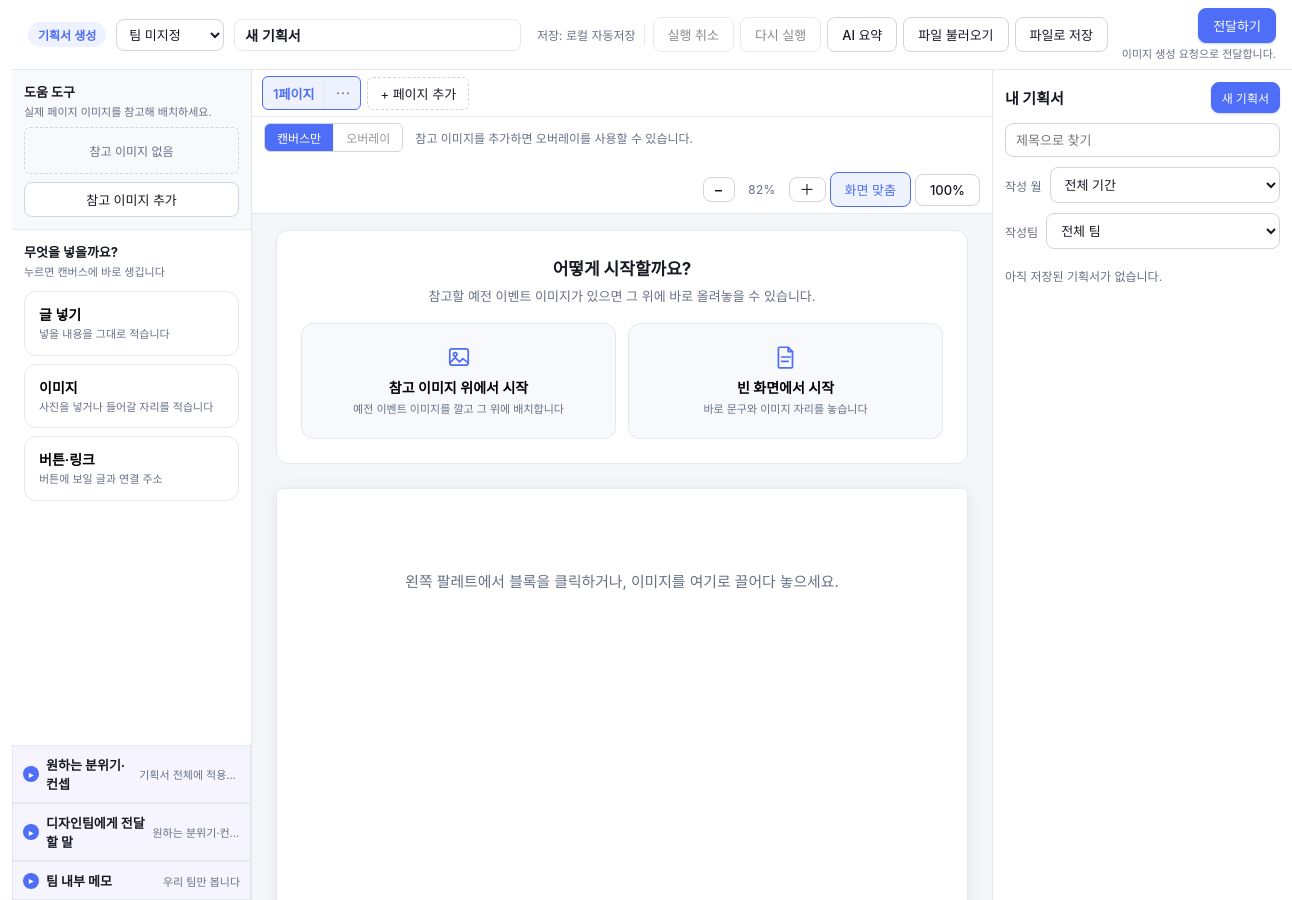
Scenario: editor top bar — Phase 7 Step 3 › asks for a name before delivering — an unnamed brief creates no request and does not navigate
The width and height of the screenshot is (1292, 900).
Expected: the message reads "이미지 생성 요청으로 전달합니다.", [1122, 47, 1276, 61]
Clear the field named "기획서 제목": point(378, 34) [234, 18, 521, 50]
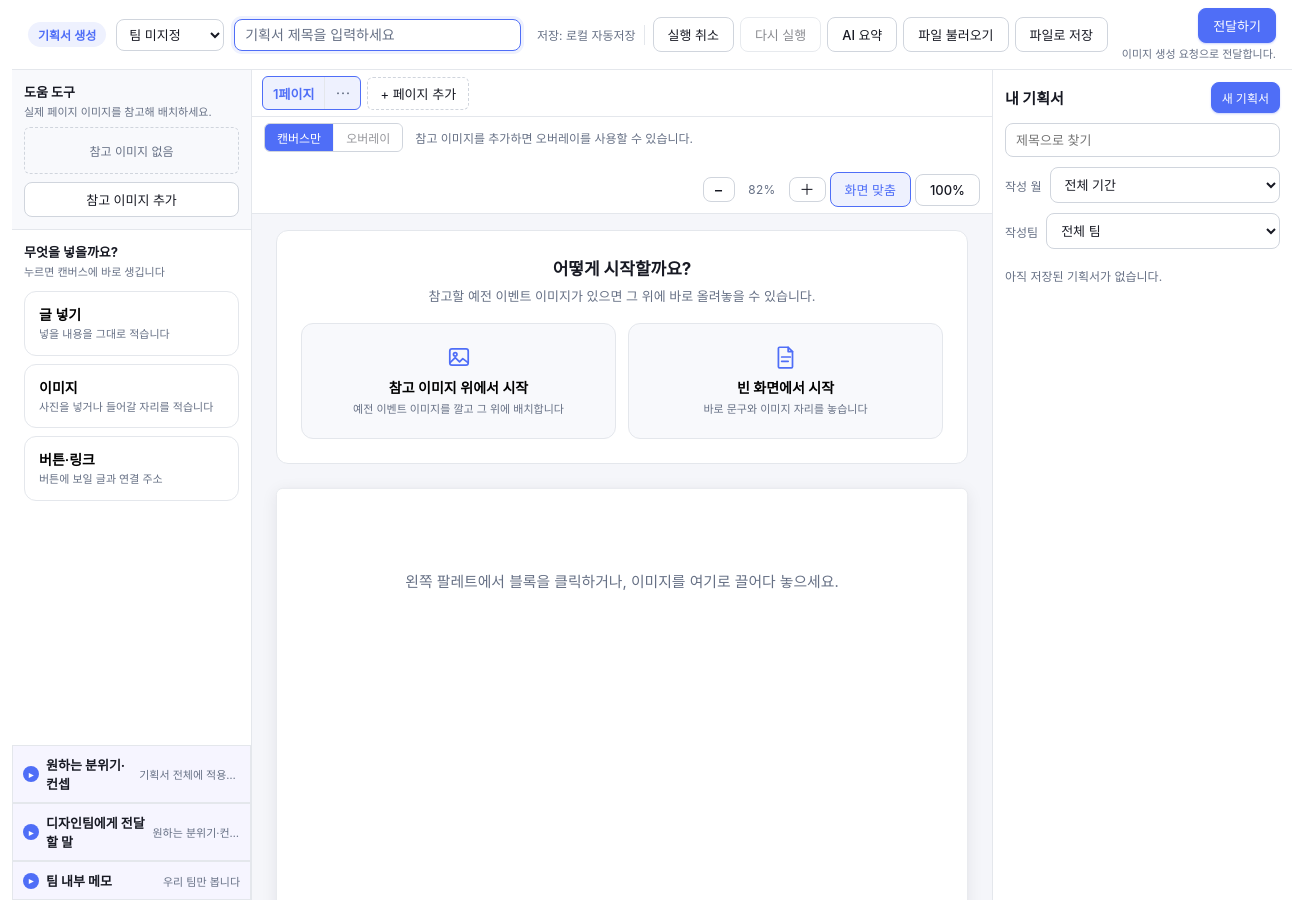
Click the button "전달하기": point(1237, 26) [1198, 8, 1276, 43]
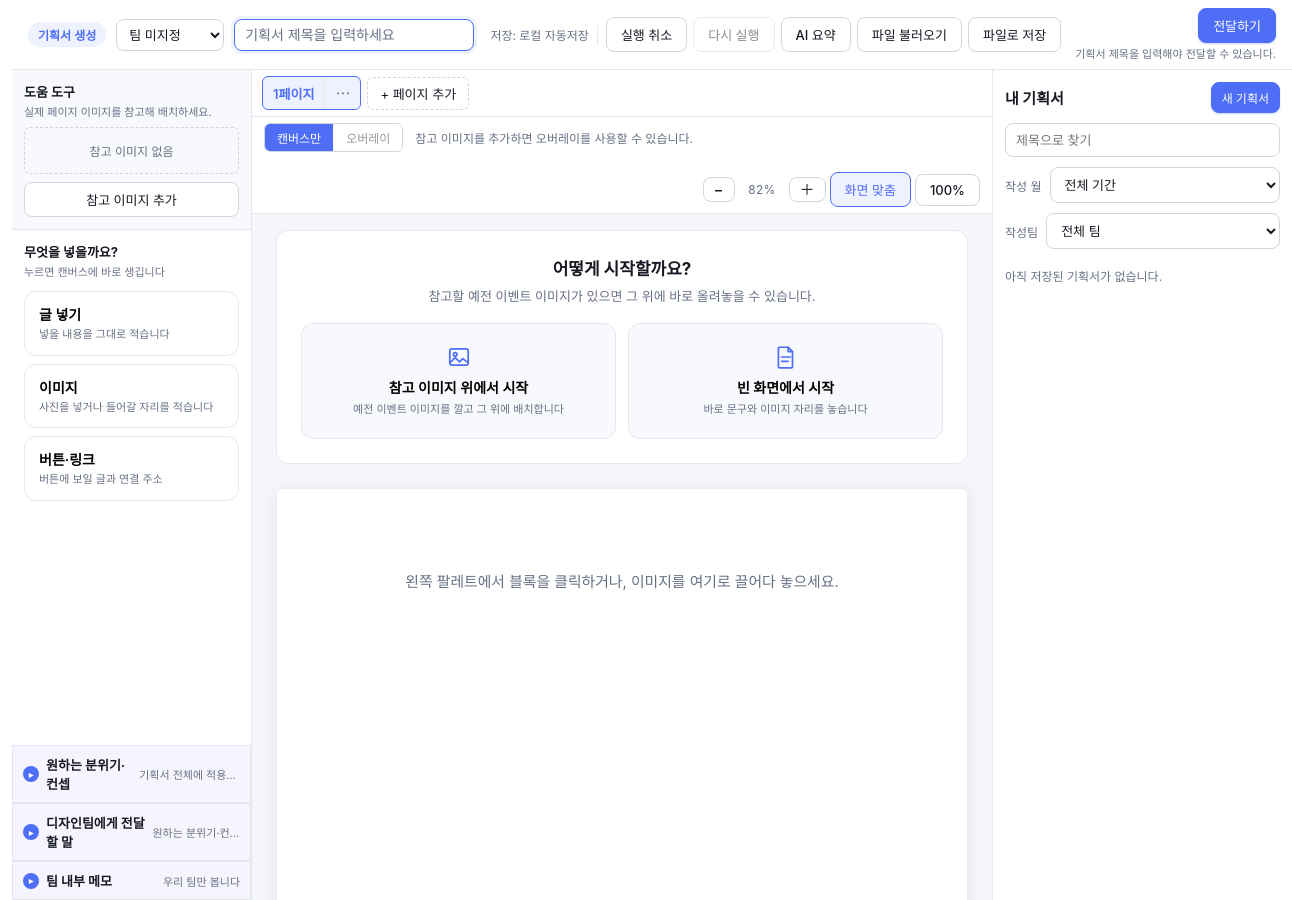
Expected: the element named "블록 팔레트" is shown, [12, 230, 251, 745]
Expected: the message reads "기획서 제목을 입력해야 전달할 수 있습니다.", [1075, 47, 1276, 61]
